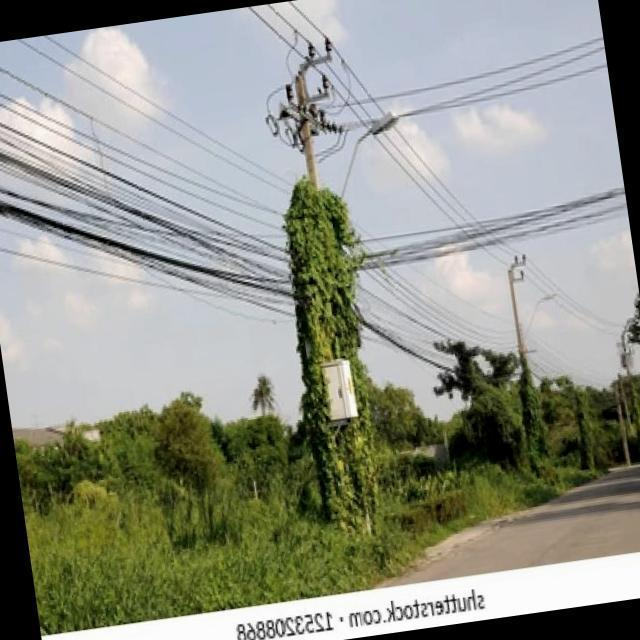critical vegetation: (164, 70, 430, 360)
